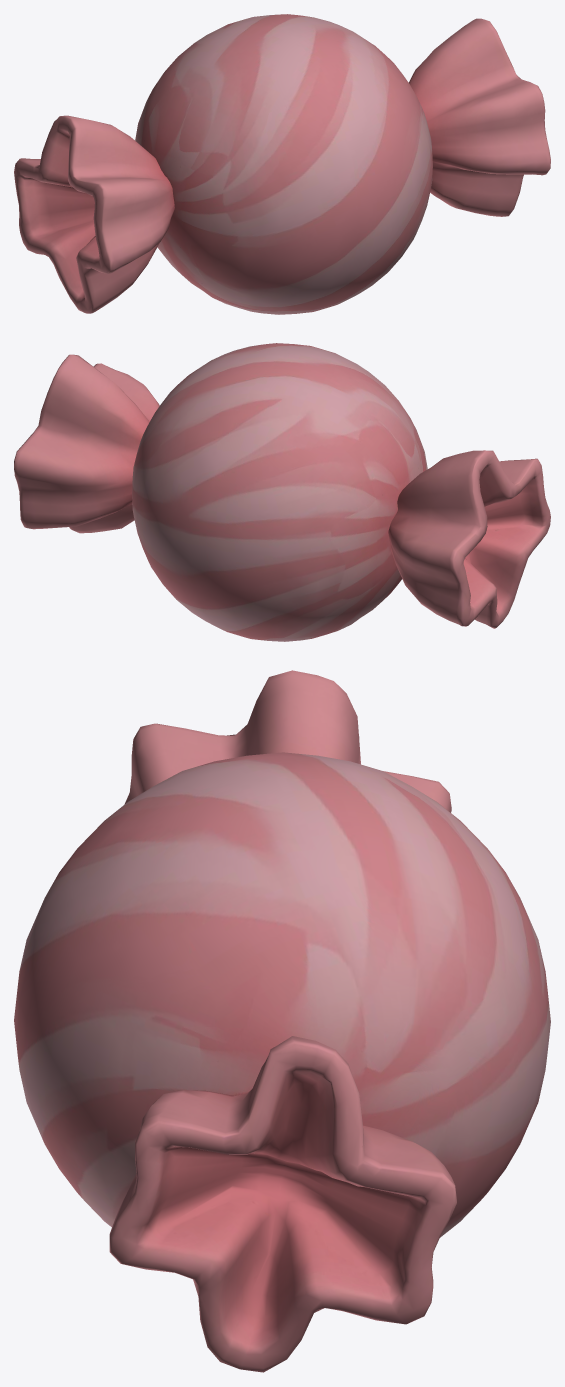
Rendered from asset_pack_item_glb-vd7d0dcraj58ycbcm7n9arqjjx8bztjr-14-ks78m3s47f2yxpn1f4t5j7zj898byyhq.glb.
3 views of the same model, one above another, from view 1: azimuth 30°, elevation 25°; view 2: azimuth 150°, elevation 25°; view 3: azimuth 270°, elevation 25° (orthographic). The views are drawn at different scales.
Parts seen in each view (by area): view 1: prop-candy; view 2: prop-candy; view 3: prop-candy.
Boxes of the visible parts, x1,y1,x2,y2 form: prop-candy: [14, 14, 550, 314]; prop-candy: [14, 343, 550, 641]; prop-candy: [14, 670, 550, 1372].
Size of the model in its own units: 0.998 by 0.5801 by 0.5801.
Materials: 1 (1 with a texture image).
